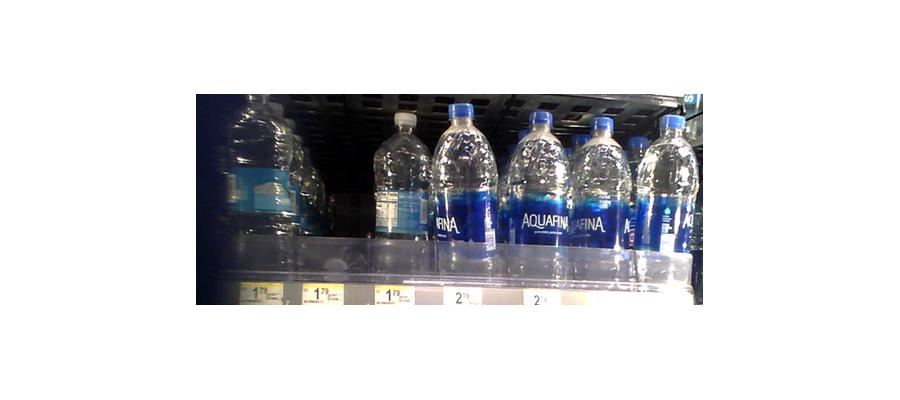bottle: (223, 92, 300, 285), (434, 101, 502, 284), (504, 104, 570, 287), (633, 110, 695, 296), (370, 110, 432, 282), (572, 111, 631, 288), (302, 226, 367, 289)
